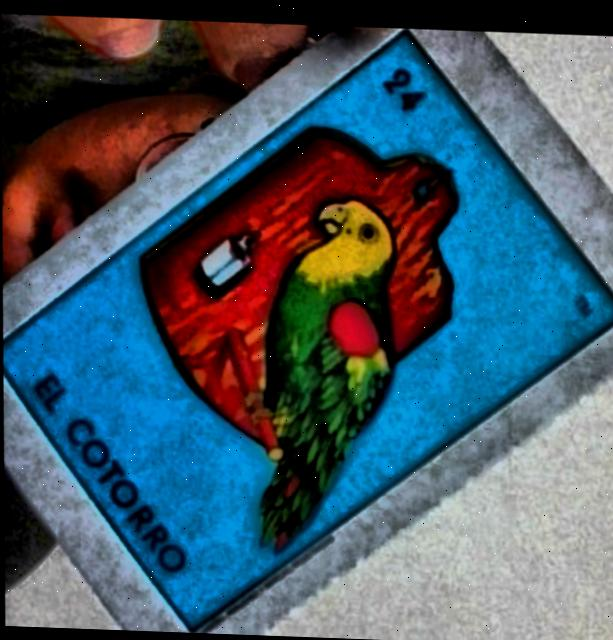El Cotorro: (2, 30, 613, 630)
